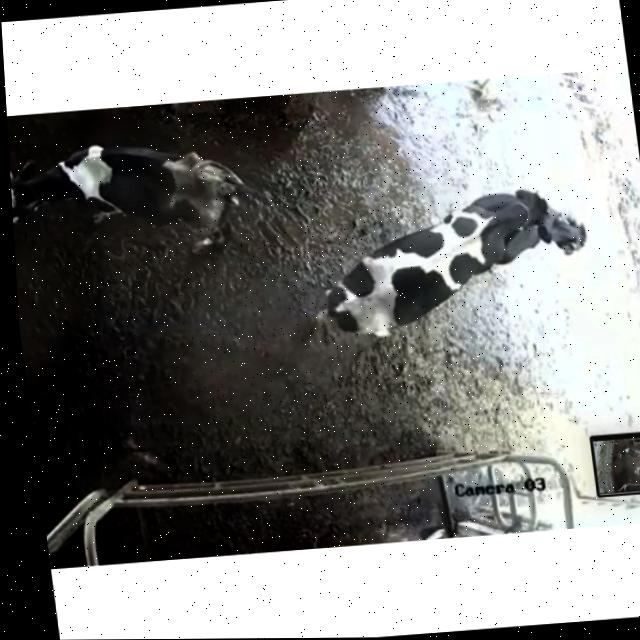ride: (303, 183, 562, 343)
